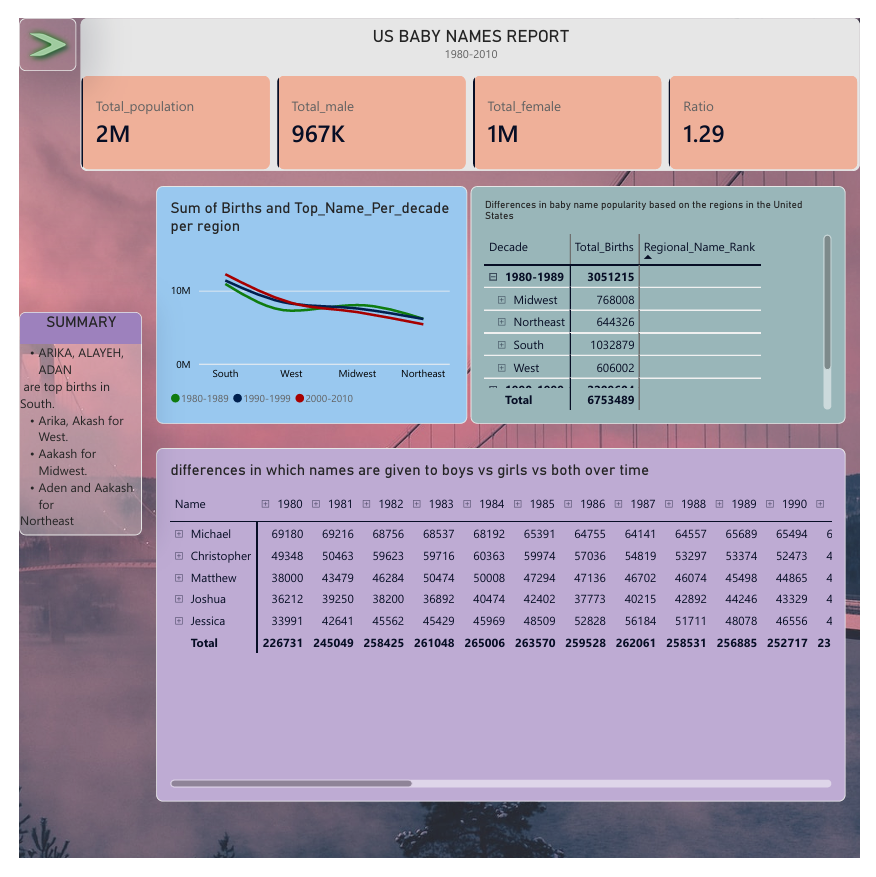

What the dashboard file says about the page in this screenshot:
{"tool":"powerbi","page":{"name":"Main KPIs","canvas":[1000,1000],"ordinal":1},"visuals":[{"type":"cardVisual","title":"US BABY NAMES REPORT","fields":{"Data":["names.Total_population","names.total_male","names.total_female","names.Ratio"]},"box":[73.3,0,926.7,181.7],"z":0},{"type":"pivotTable","title":"Differences in baby name popularity based on the regions in the United States","fields":{"Rows":["names.Decade","names.Region","names.Name"],"Values":["names.Total_Births","names.Regional_Name_Rank"]},"box":[536.7,200,446.7,283.3],"z":1000},{"type":"pivotTable","title":"differences in which names are given to boys vs girls vs both over time","fields":{"Columns":["names.Year","names.Region"],"Rows":["names.Name","names.Gender"],"Values":["Sum(names.Births)"]},"box":[163.3,511.7,820,421.7],"z":2000},{"type":"lineChart","title":"Sum of Births and Top_Name_Per_decade per region","fields":{"Category":["names.Region"],"Series":["names.Decade"],"Y":["Sum(names.Births)"]},"box":[163.3,200,370,283.3],"z":3000},{"type":"textbox","title":"SUMMARY","box":[0,350,146,266],"z":3001},{"type":"actionButton","title":"<-Back","box":[0,0,68.3,63.3],"z":3002}]}

Visuals, with their boxes in screenshot pixels (x1, y1, x2, y2), scaled from the page's 1000x1000 canvas onto the 876x877 screenshot:
"US BABY NAMES REPORT" cardVisual: rect(64, 0, 875, 159)
"Differences in baby name popularity based on the regions in the United States" pivotTable: rect(470, 175, 861, 424)
"differences in which names are given to boys vs girls vs both over time" pivotTable: rect(143, 449, 861, 819)
"Sum of Births and Top_Name_Per_decade per region" lineChart: rect(143, 175, 467, 424)
"SUMMARY" textbox: rect(0, 307, 128, 540)
"<-Back" actionButton: rect(0, 0, 60, 56)
